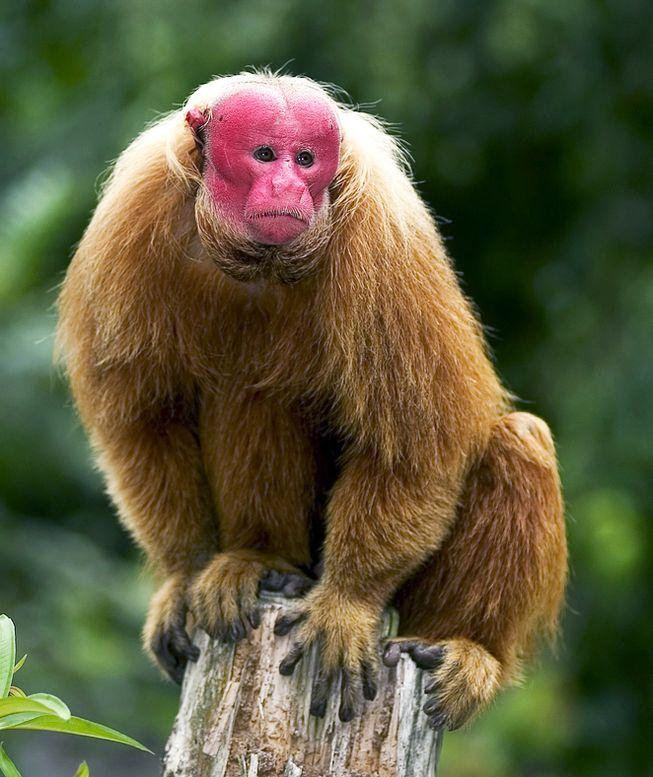monkey: (57, 70, 570, 735)
